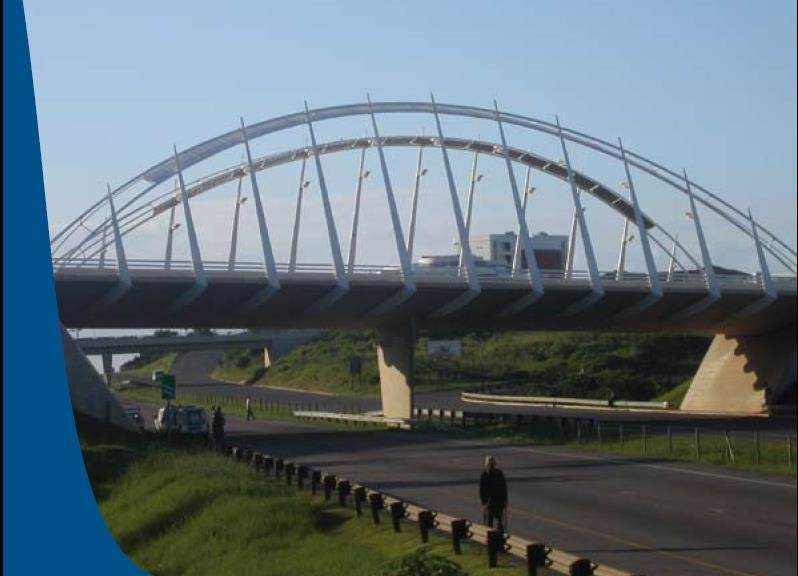bridge: (49, 97, 798, 340)
